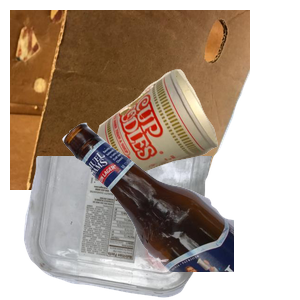cardboard: (10, 10, 250, 190)
glass: (60, 120, 300, 300)
plastic: (21, 156, 226, 300)
trash: (95, 67, 300, 238)
